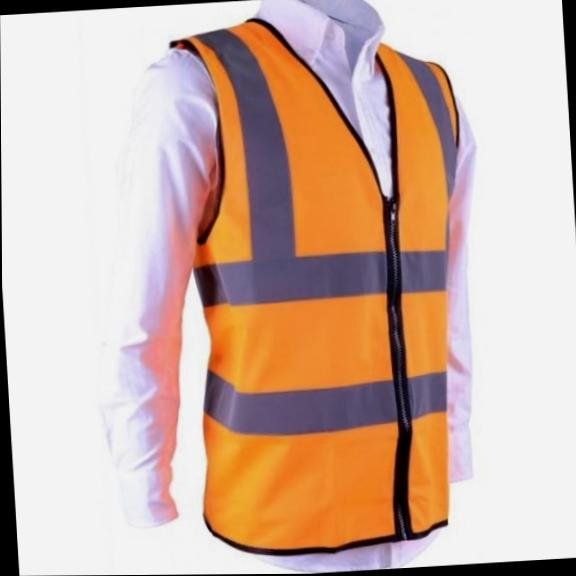safety_vest: (165, 3, 483, 562)
